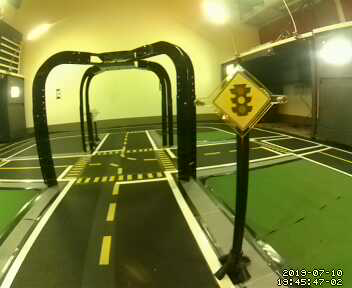Traffic light sign: (212, 66, 272, 135)
